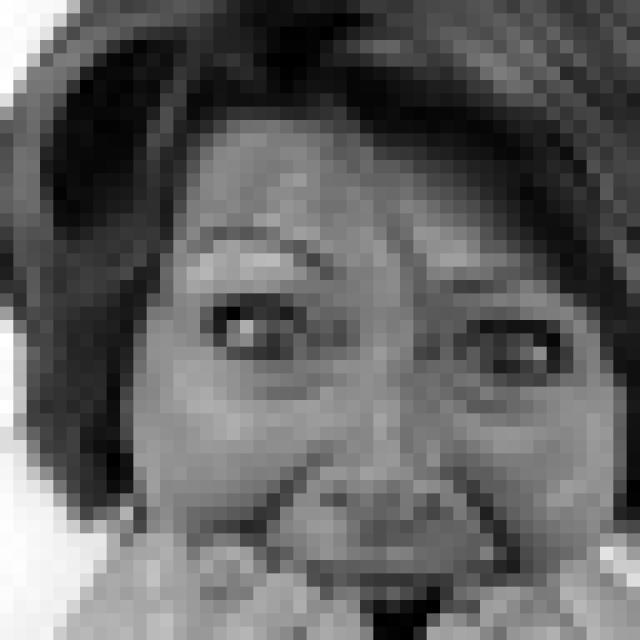fear: (188, 213, 587, 640)
